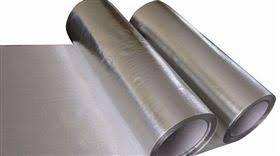metal: (0, 0, 276, 154)
